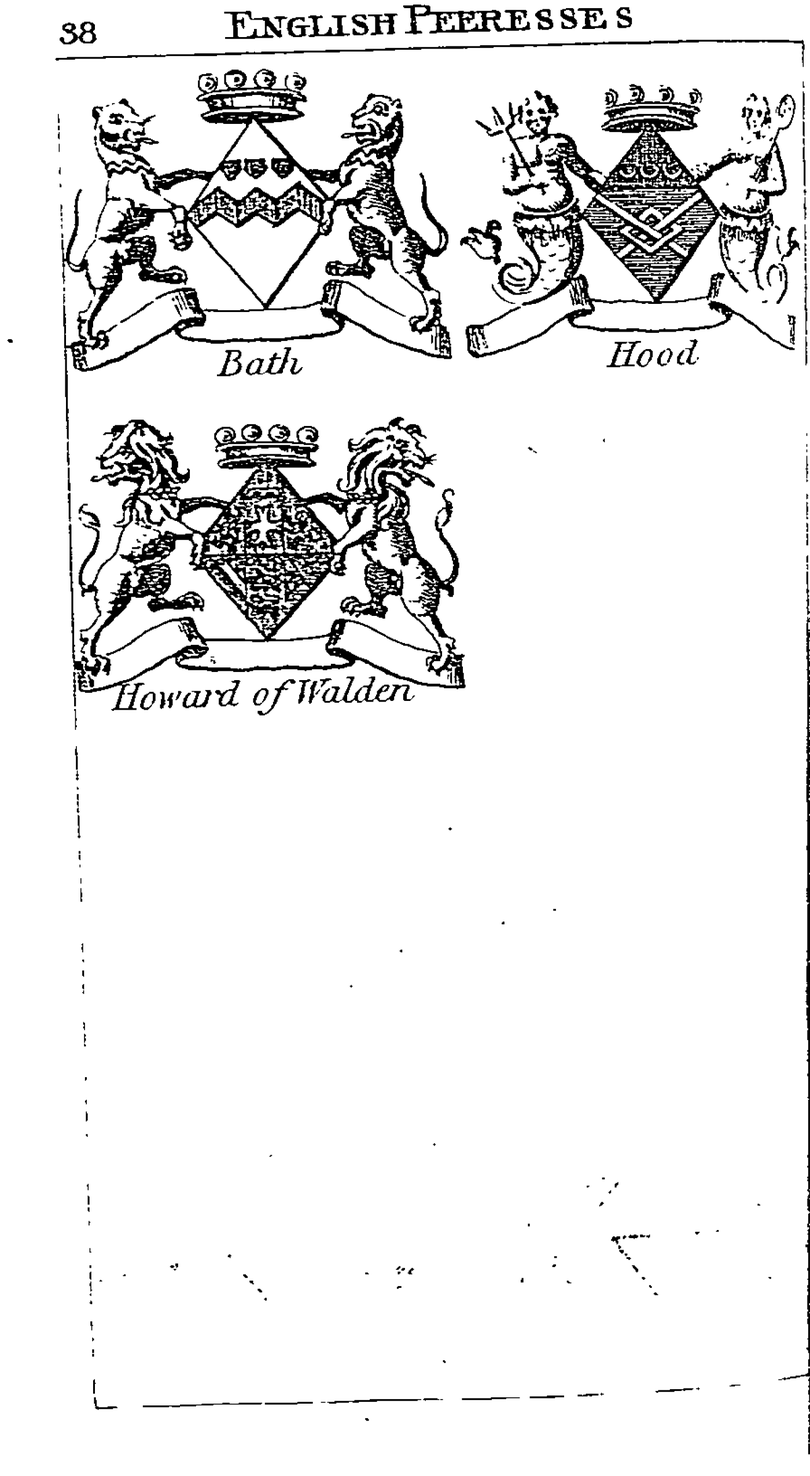coat_of_arms: (71, 390, 497, 743), (67, 63, 450, 381), (463, 71, 806, 377)
